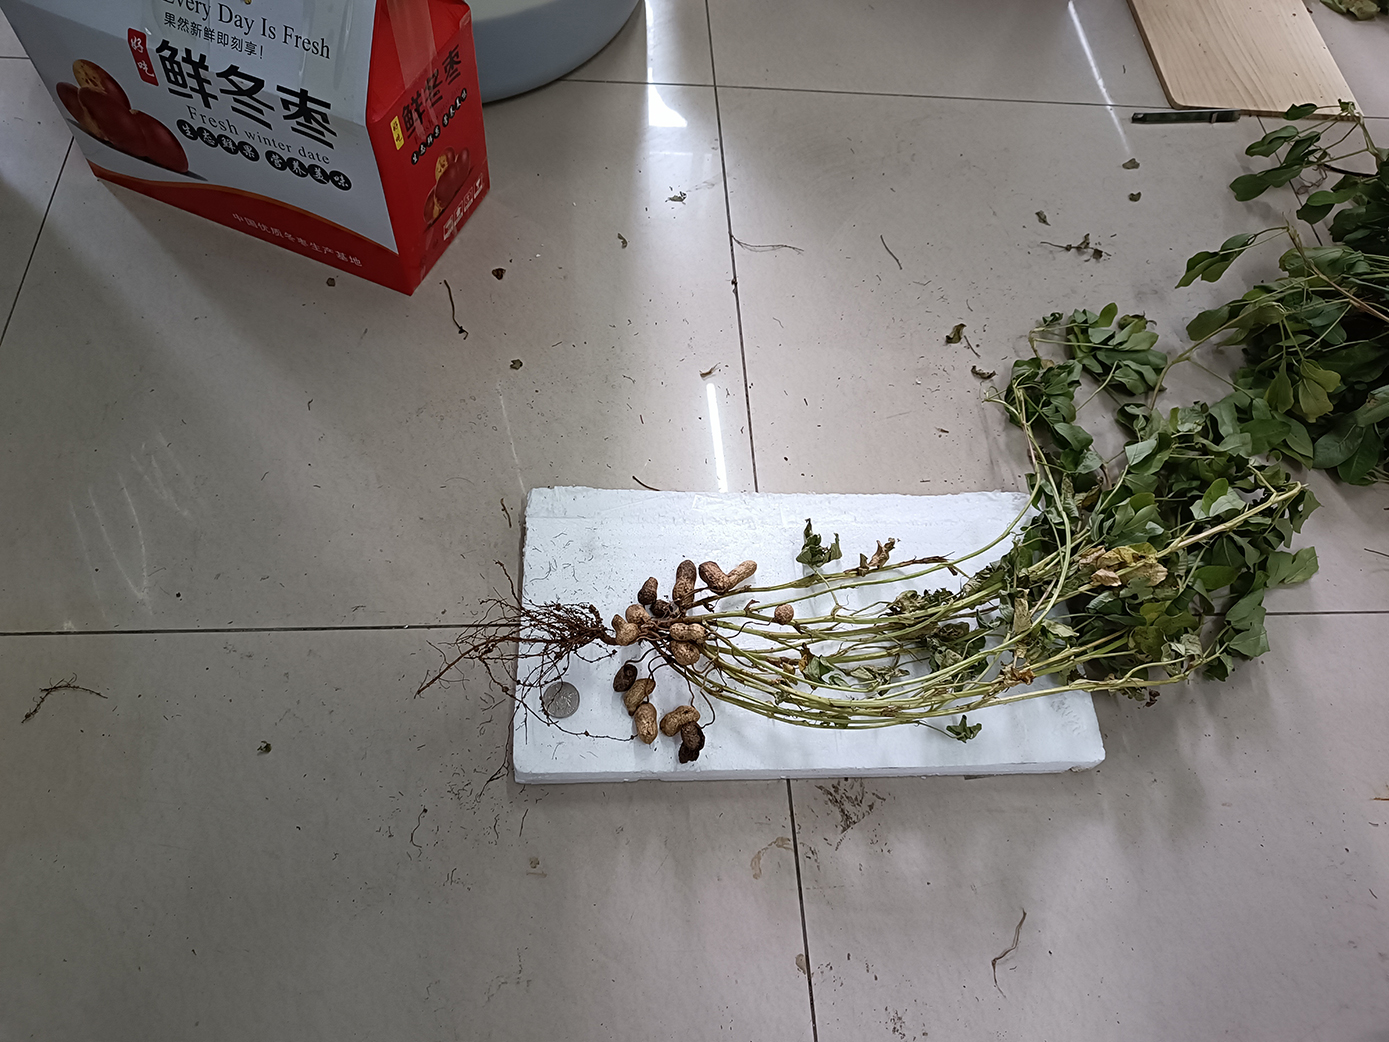h: (660, 705, 701, 736), (624, 678, 657, 713), (699, 561, 730, 594), (635, 702, 659, 742), (667, 641, 701, 665), (612, 614, 638, 645), (728, 560, 757, 587), (669, 624, 707, 641), (625, 604, 650, 625), (774, 604, 794, 626)
l: (672, 560, 697, 610), (680, 722, 706, 765), (614, 665, 638, 693), (638, 576, 657, 604), (651, 599, 669, 616)
